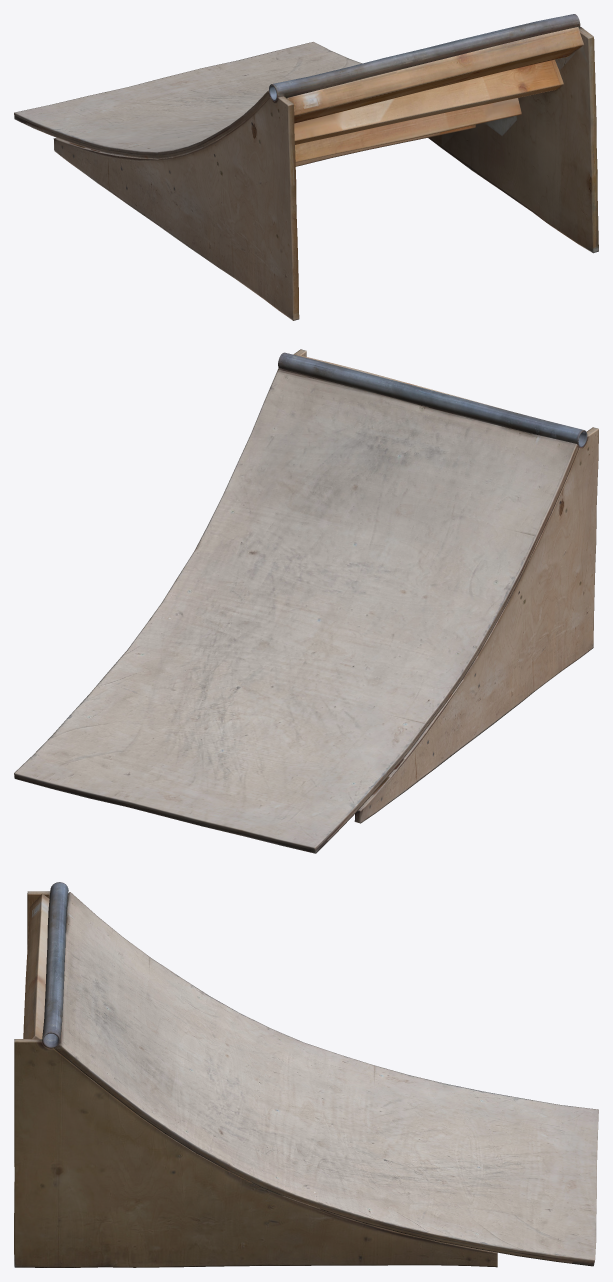
File: skate_ramp.glb
3 renders of one model, top to bottom at view 1: azimuth 30°, elevation 25°; view 2: azimuth 150°, elevation 25°; view 3: azimuth 270°, elevation 25°, orthographic. The views are drawn at different scales.
Visible parts, largest first — view 1: Skate ramp_Material #45_0; view 2: Skate ramp_Material #45_0; view 3: Skate ramp_Material #45_0.
Part boxes in pixels (<box>): Skate ramp_Material #45_0: <box>14,14,598,320</box>; Skate ramp_Material #45_0: <box>14,349,598,853</box>; Skate ramp_Material #45_0: <box>14,882,598,1267</box>.
Bounding box in the file's own units: 0.8885 × 0.6345 × 1.43.
Materials: 1 (1 with a texture image).
